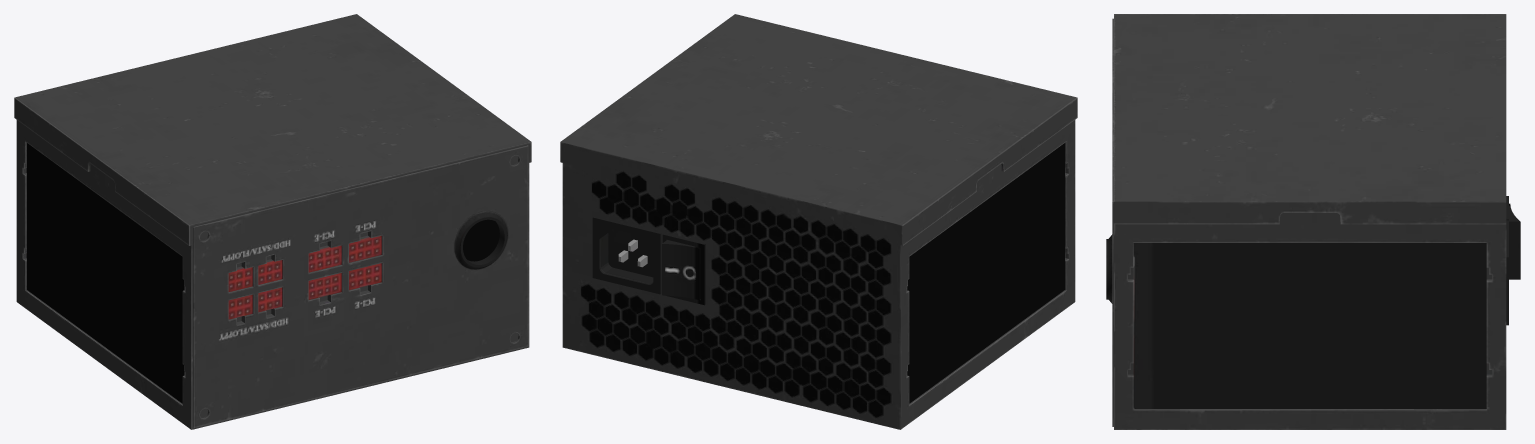
Rendered from psu-corsair-rm750e_lod1.glb.
3 renders of one model, left to right at view 1: azimuth 30°, elevation 25°; view 2: azimuth 150°, elevation 25°; view 3: azimuth 270°, elevation 25°, orthographic. The views are drawn at different scales.
Visible parts, largest first — view 1: body; view 2: body; view 3: body.
Boxes of the visible parts, box(x1,y1,x2,y2) form: body: box(14, 14, 531, 429); body: box(560, 14, 1077, 429); body: box(1106, 14, 1520, 429).
Size of the model in its own units: 0.15 by 0.086 by 0.14.
1 material, 1 textured.
